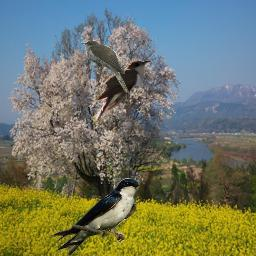Cuckoo: (93, 59, 152, 129), (81, 40, 129, 94)
Swallow: (50, 178, 140, 256)
